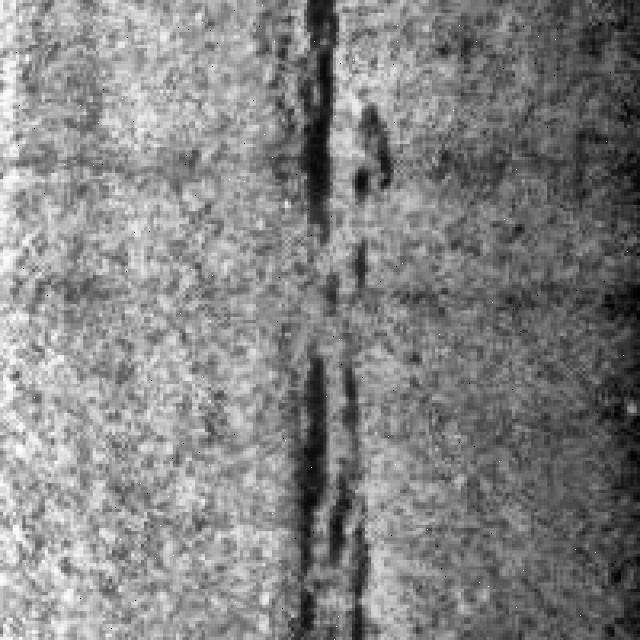Patches: (266, 321, 378, 634), (282, 0, 384, 275)
